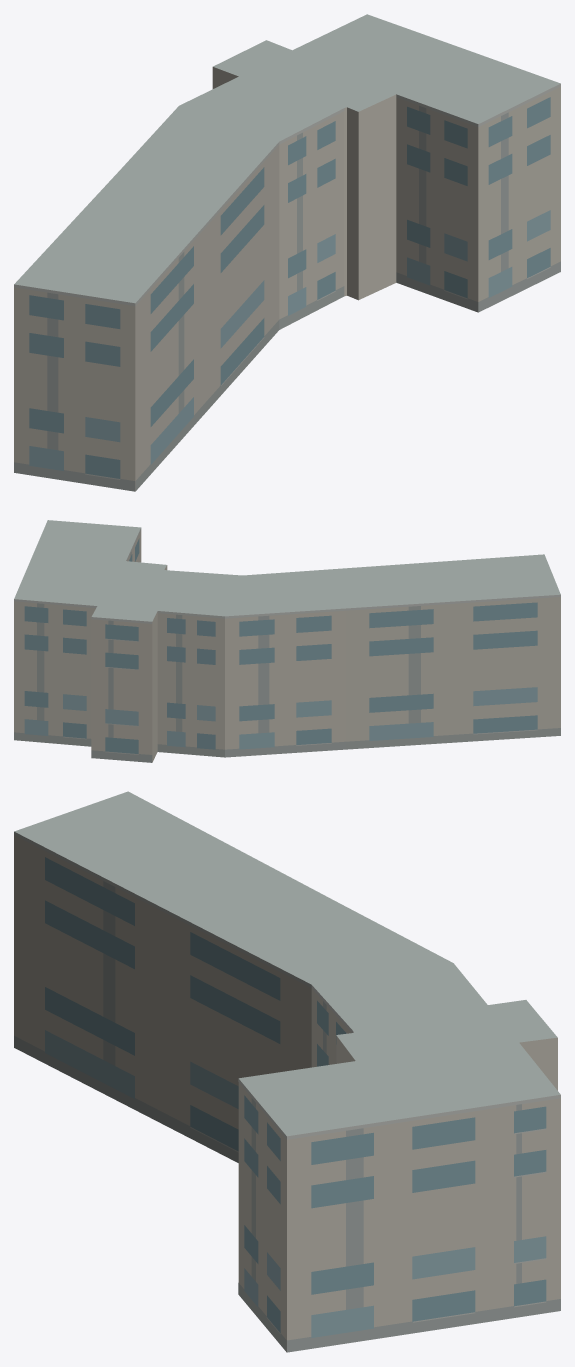
Rendered from survey-upis-32916597.glb.
The picture shows the model from 3 angles, top to bottom: view 1: azimuth 30°, elevation 25°; view 2: azimuth 150°, elevation 25°; view 3: azimuth 270°, elevation 25°; orthographic projection. The views are drawn at different scales.
Visible parts, largest first — view 1: survey-upis-32916597.tmp; view 2: survey-upis-32916597.tmp; view 3: survey-upis-32916597.tmp.
Boxes of the visible parts, <box> form: survey-upis-32916597.tmp: <box>14,14,560,491</box>; survey-upis-32916597.tmp: <box>14,520,560,762</box>; survey-upis-32916597.tmp: <box>14,791,560,1352</box>.
Size of the model in its own units: 52.19 by 15.25 by 34.97.
